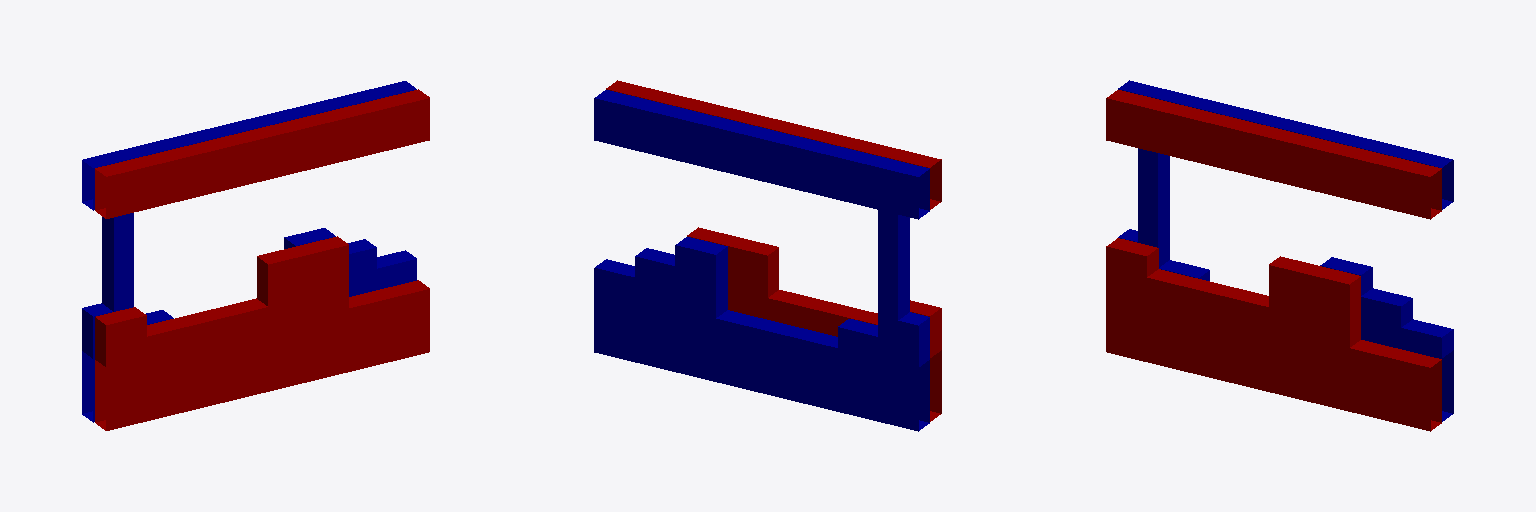
File: Casey1NoMat.obj
3 views of the same model, side by side, from view 1: azimuth 30°, elevation 25°; view 2: azimuth 150°, elevation 25°; view 3: azimuth 330°, elevation 25° (orthographic).
Parts seen in each view (by area): view 1: Plane.003, Plane.001_Plane.000; view 2: Plane.001_Plane.000, Plane.003; view 3: Plane.003, Plane.001_Plane.000.
Boxes of the visible parts, x1,y1,x2,y2 form: Plane.003: [95, 89, 429, 430]; Plane.001_Plane.000: [82, 81, 416, 422]; Plane.001_Plane.000: [594, 90, 929, 431]; Plane.003: [606, 80, 941, 421]; Plane.003: [1106, 90, 1441, 431]; Plane.001_Plane.000: [1118, 80, 1453, 421].
Bounding box in the file's own units: 16.04 × 12 × 2.04.